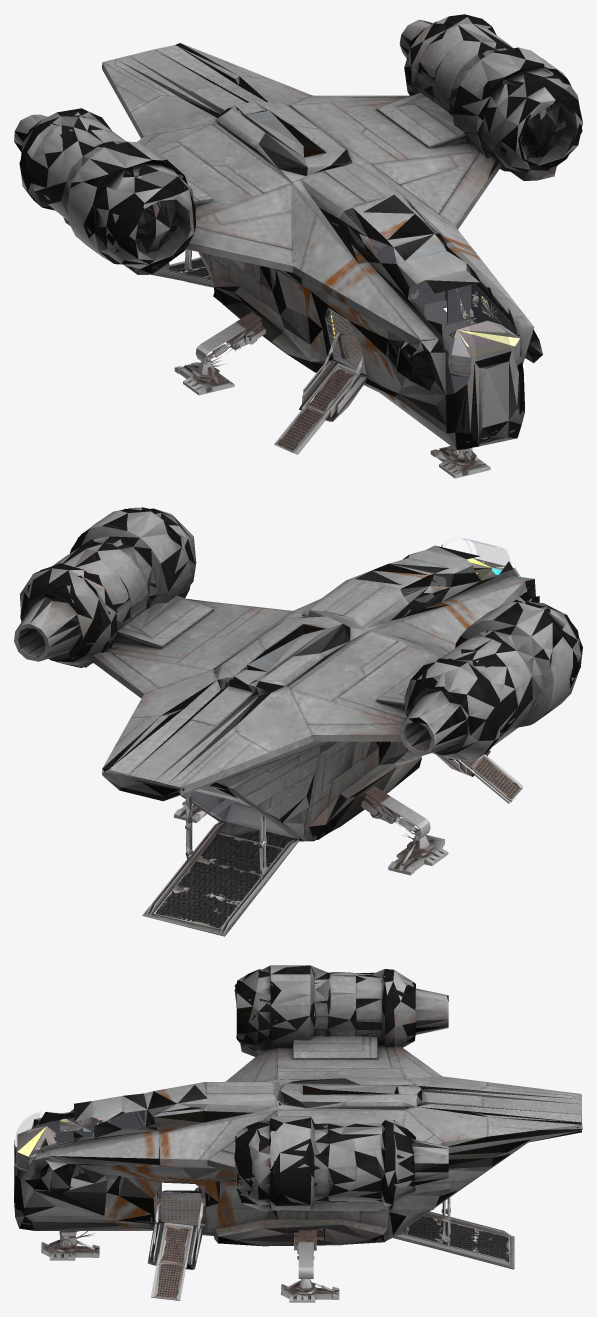
Rendered from sw_razor_crest.glb.
3 views of the same model, one above another, from view 1: azimuth 30°, elevation 25°; view 2: azimuth 150°, elevation 25°; view 3: azimuth 270°, elevation 25° (orthographic). The views are drawn at different scales.
Visible parts, largest first — view 1: Object_7, Object_9, Object_11, Object_10, Object_15, Object_12; view 2: Object_7, Object_9, Object_11, Object_10, Object_15; view 3: Object_7, Object_9, Object_11, Object_10, Object_15, Object_12, Object_14.
Boxes of the visible parts, x1,y1,x2,y2 form: Object_7: [102, 43, 542, 449]; Object_9: [14, 14, 582, 274]; Object_11: [157, 249, 490, 478]; Object_10: [325, 221, 521, 442]; Object_15: [408, 286, 519, 373]; Object_12: [327, 308, 366, 374]; Object_7: [90, 544, 539, 936]; Object_9: [14, 507, 582, 761]; Object_11: [146, 754, 522, 933]; Object_10: [183, 557, 453, 838]; Object_15: [433, 558, 520, 586]; Object_7: [14, 1036, 582, 1269]; Object_9: [234, 965, 448, 1210]; Object_11: [41, 1182, 512, 1302]; Object_10: [15, 1110, 209, 1225]; Object_15: [17, 1117, 108, 1156]; Object_12: [154, 1196, 205, 1222]; Object_14: [154, 1197, 200, 1222].
Size of the model in its own units: 1.52 by 0.7798 by 1.91.
Materials: 8 (8 with a texture image).
